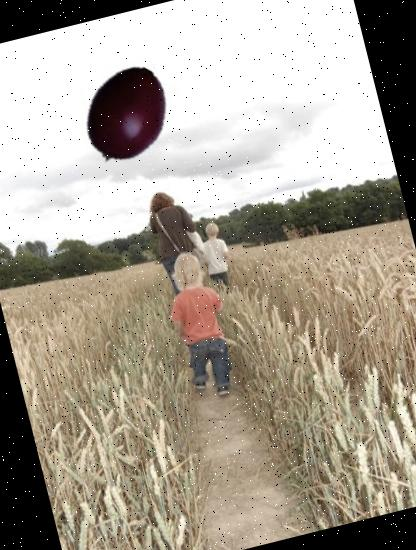Tamarillo: (63, 53, 189, 179)
